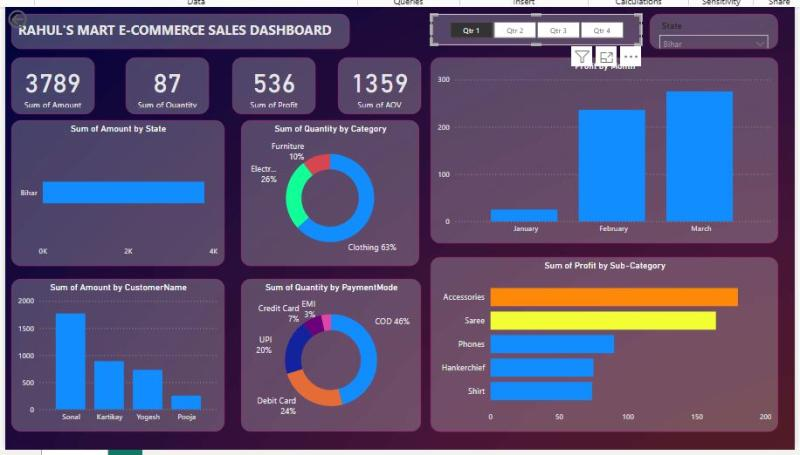

This screenshot's page, from the dashboard's own definition file:
{"tool":"powerbi","page":{"name":"Page 1","canvas":[1280,720],"ordinal":0},"visuals":[{"type":"textbox","box":[10.1,11.8,549.3,57.1],"z":0},{"type":"columnChart","title":"Profit by Month","fields":{"Category":["Orders.Order Date.Variation.Date Hierarchy.Month"],"Y":["Details.Profit"]},"box":[690.4,82.3,564.4,302.4],"z":1000},{"type":"barChart","fields":{"Category":["Details.Sub-Category"],"Y":["Details.Profit"]},"box":[690.4,406.5,564.4,283.9],"z":2000},{"type":"donutChart","fields":{"Category":["Details.Category"],"Y":["Details.Quantity"]},"box":[383,184.8,288.9,236.9],"z":3000},{"type":"donutChart","fields":{"Y":["Details.Quantity"],"Category":["Details.PaymentMode"]},"box":[382.7,442.2,292,248],"z":4000},{"type":"card","fields":{"Values":["Details.Amount"]},"box":[9.9,82.2,134.6,92.1],"z":5000},{"type":"card","fields":{"Values":["Details.Quantity"]},"box":[195.6,82.2,134.6,92.1],"z":6000},{"type":"actionButton","box":[0,0,100,40],"z":7000},{"type":"card","fields":{"Values":["Details.Profit"]},"box":[368.5,82.2,134.6,92.1],"z":8000},{"type":"card","fields":{"Values":["Details.AOV"]},"box":[540,82.2,134.6,92.1],"z":9000},{"type":"barChart","fields":{"Category":["Orders.State"],"Y":["Details.Amount"]},"box":[9.9,184.3,345.8,236.7],"z":10000},{"type":"columnChart","fields":{"Category":["Orders.CustomerName"],"Y":["Details.Amount"]},"box":[9.9,442.2,345.8,248],"z":11000},{"type":"slicer","fields":{"Values":["Orders.Order Date.Variation.Date Hierarchy.Quarter"]},"box":[690.4,11.8,342.7,50.4],"z":12000},{"type":"slicer","fields":{"Values":["Orders.State"]},"box":[1046.5,11.8,208.3,57.1],"z":13000}]}

Visuals, with their boxes in screenshot pixels (x1, y1, x2, y2):
textbox: l=2, t=12, r=353, b=48
"Profit by Month" columnChart: l=437, t=57, r=798, b=250
barChart - Details.Sub-Category x Details.Profit: l=437, t=264, r=798, b=445
donutChart - Details.Category x Details.Quantity: l=241, t=122, r=425, b=274
donutChart - Details.Quantity x Details.PaymentMode: l=240, t=287, r=427, b=445
card - Details.Amount: l=2, t=57, r=88, b=116
card - Details.Quantity: l=121, t=57, r=207, b=116
actionButton: l=0, t=4, r=60, b=30
card - Details.Profit: l=231, t=57, r=317, b=116
card - Details.AOV: l=341, t=57, r=427, b=116
barChart - Orders.State x Details.Amount: l=2, t=122, r=223, b=273
columnChart - Orders.CustomerName x Details.Amount: l=2, t=287, r=223, b=445
slicer - Orders.Order Date.Variation.Date Hierarchy.Quarter: l=437, t=12, r=656, b=44
slicer - Orders.State: l=665, t=12, r=798, b=48
